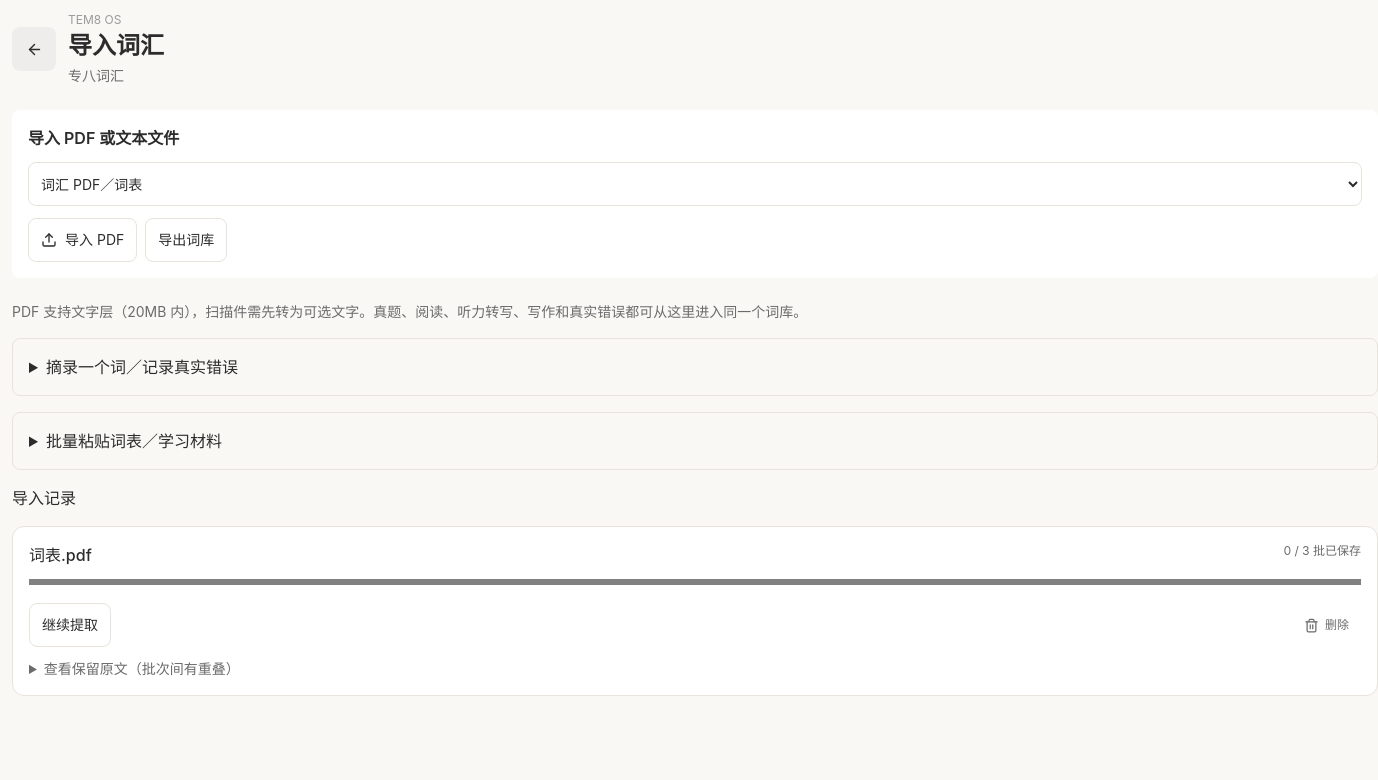
it: TEM8 full vocabulary page › reports saved entries and pauses when the response is incomplete
The image size is (1378, 780).
Click the button "继续提取": (70, 625) [29,603,111,647]
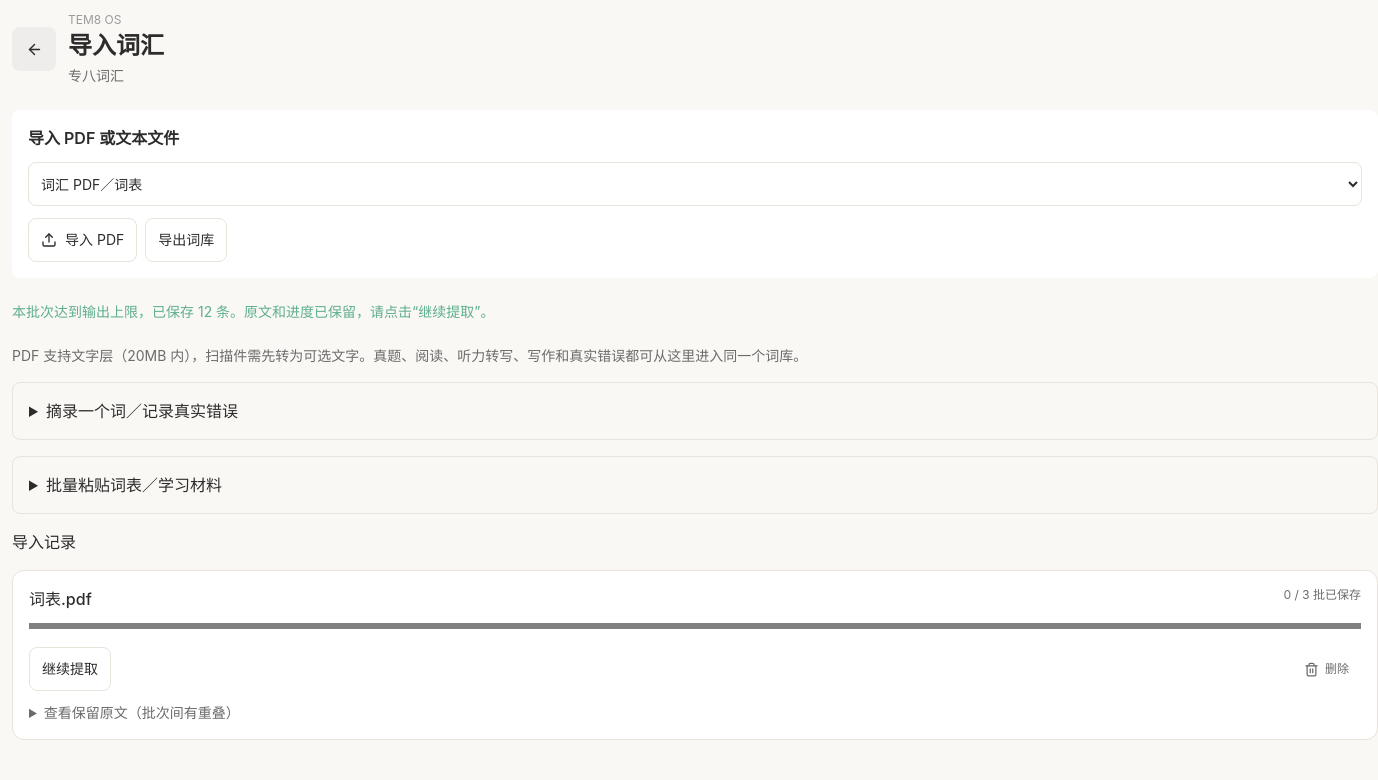
Result: the message shows "已保存 12 条" at [12,303,494,320]
